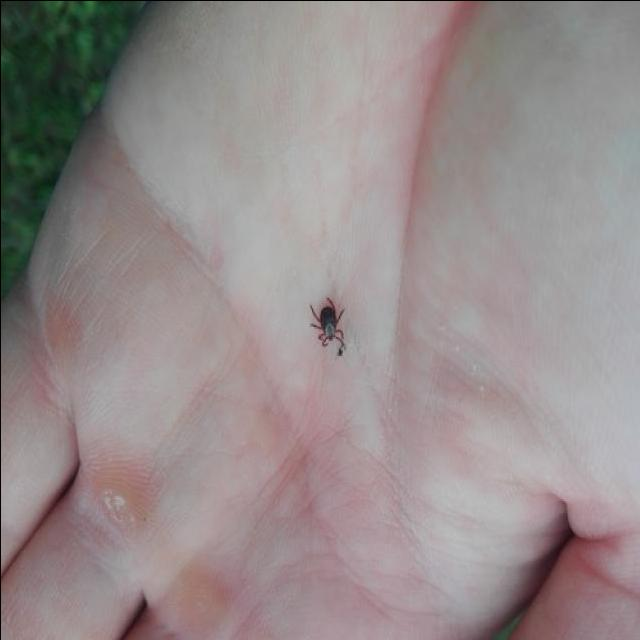Dermacentor Reticulatus-F: (308, 295, 348, 358)
